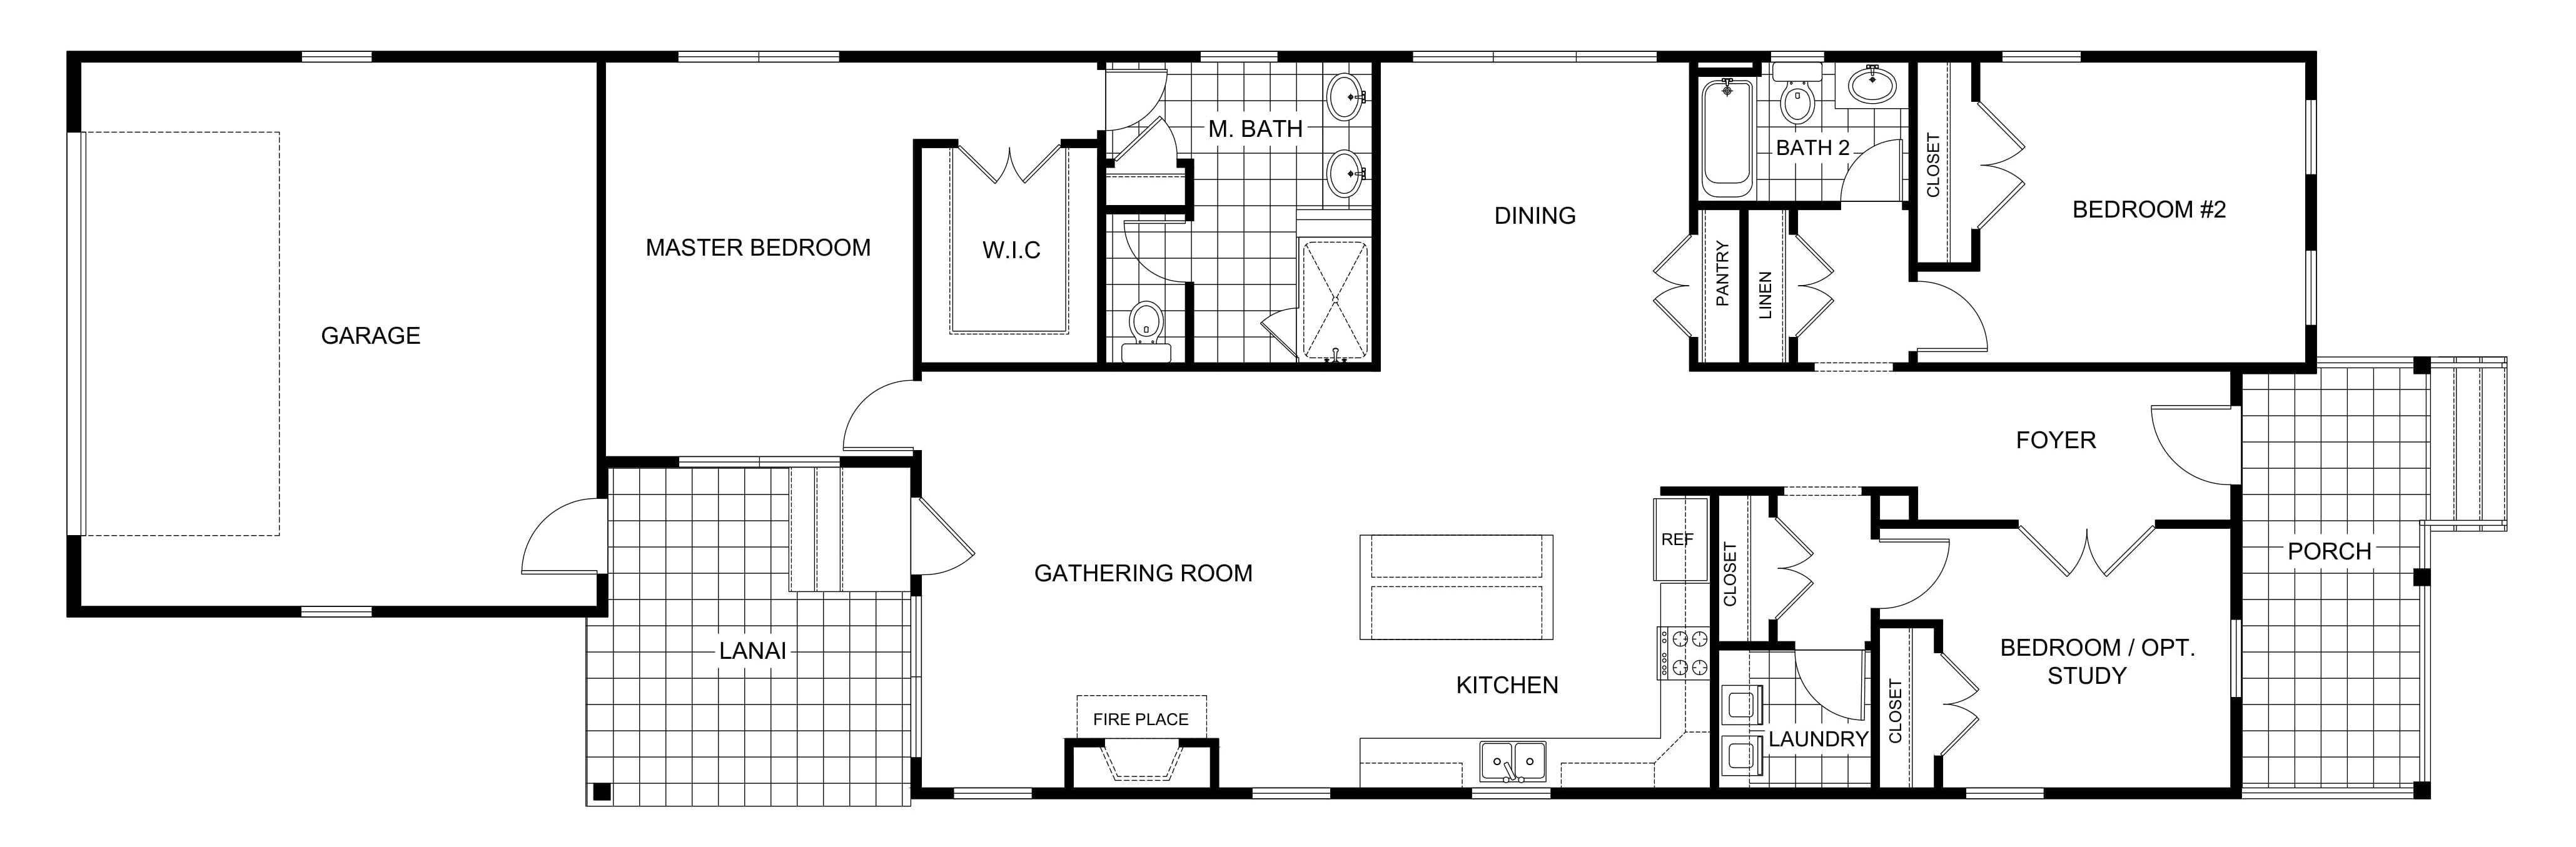door: (2022, 512, 2142, 596), (959, 110, 1056, 199), (1973, 105, 2042, 222), (1922, 648, 1999, 750), (2141, 384, 2216, 486), (511, 492, 588, 583), (509, 492, 586, 581), (927, 499, 1004, 588), (1636, 236, 1707, 330), (1925, 279, 2003, 361), (1888, 532, 1957, 617), (1764, 520, 1832, 606), (833, 374, 897, 451)
room: (902, 356, 1727, 811), (590, 39, 928, 471), (1902, 36, 2326, 376), (1866, 517, 2247, 804), (1092, 41, 1387, 382), (907, 135, 1111, 384), (1684, 34, 1924, 212), (1704, 637, 1879, 809)
window: (1406, 48, 1663, 66), (675, 450, 844, 469), (675, 48, 844, 66), (296, 601, 375, 627), (297, 43, 376, 69), (2224, 616, 2247, 704), (1962, 781, 2049, 803), (2300, 97, 2323, 177), (948, 785, 1038, 804), (1465, 785, 1556, 804), (2300, 246, 2321, 328), (1194, 48, 1283, 67), (1245, 783, 1334, 803), (1999, 48, 2083, 67), (1768, 48, 1827, 66)
